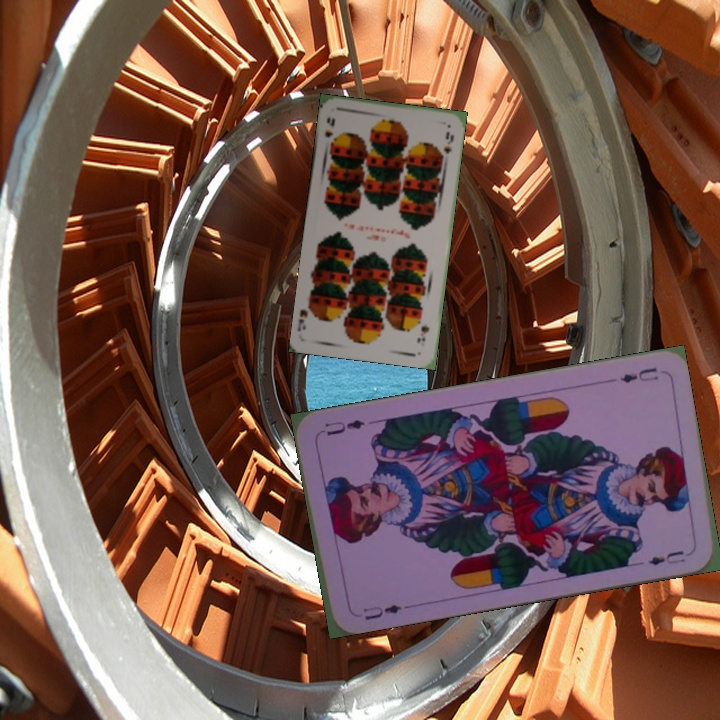EU: (359, 600, 404, 623), (616, 363, 661, 386)
S9: (321, 113, 338, 151), (414, 321, 431, 345)
